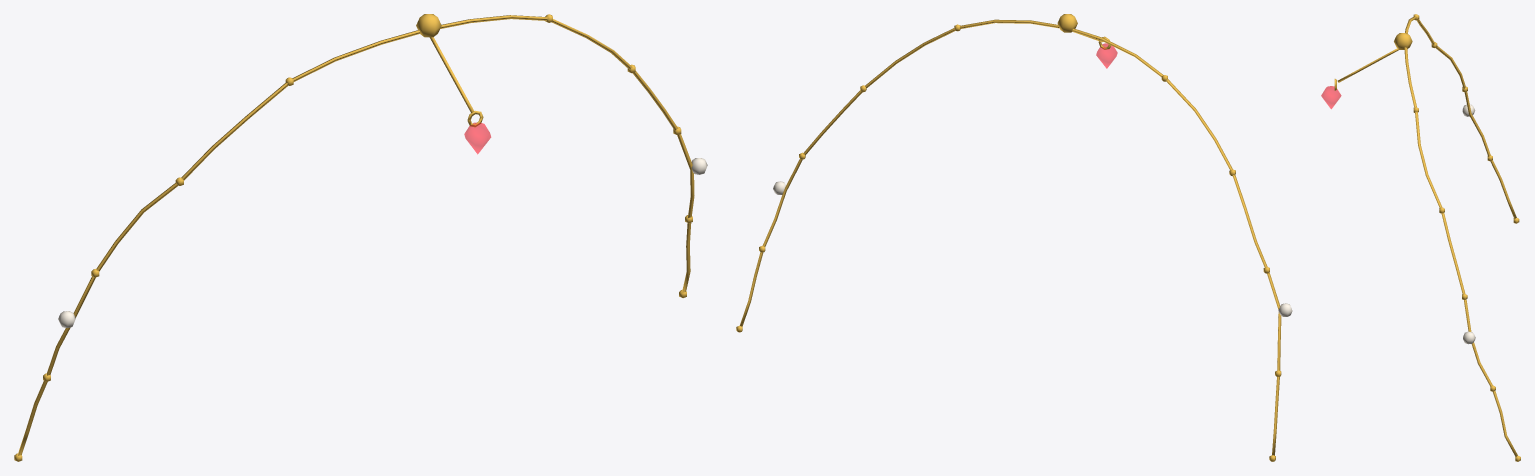
File: head_chain.glb
The picture shows the model from 3 angles, left to right: view 1: azimuth 30°, elevation 25°; view 2: azimuth 150°, elevation 25°; view 3: azimuth 270°, elevation 25°; orthographic projection. The views are drawn at different scales.
Visible parts, largest first — view 1: head_chain; view 2: head_chain; view 3: head_chain.
Part boxes in pixels (x1=…): head_chain: x1=14, y1=14, x2=707, y2=461; head_chain: x1=736, y1=14, x2=1292, y2=461; head_chain: x1=1321, y1=14, x2=1520, y2=461.
Bounding box in the file's own units: 0.2539 × 0.1525 × 0.0891.
